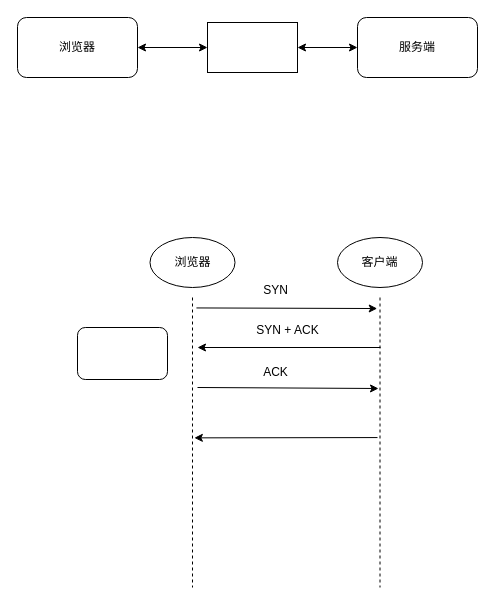
Some shapes in this 495 by 605 pixel diagram are drawn without their labels. The centre of each missing label's shape, as x and y in pixels:
"SSL\TLS 加密数据" goes at point 252,47.
"TCP 握手" goes at point 122,353.
